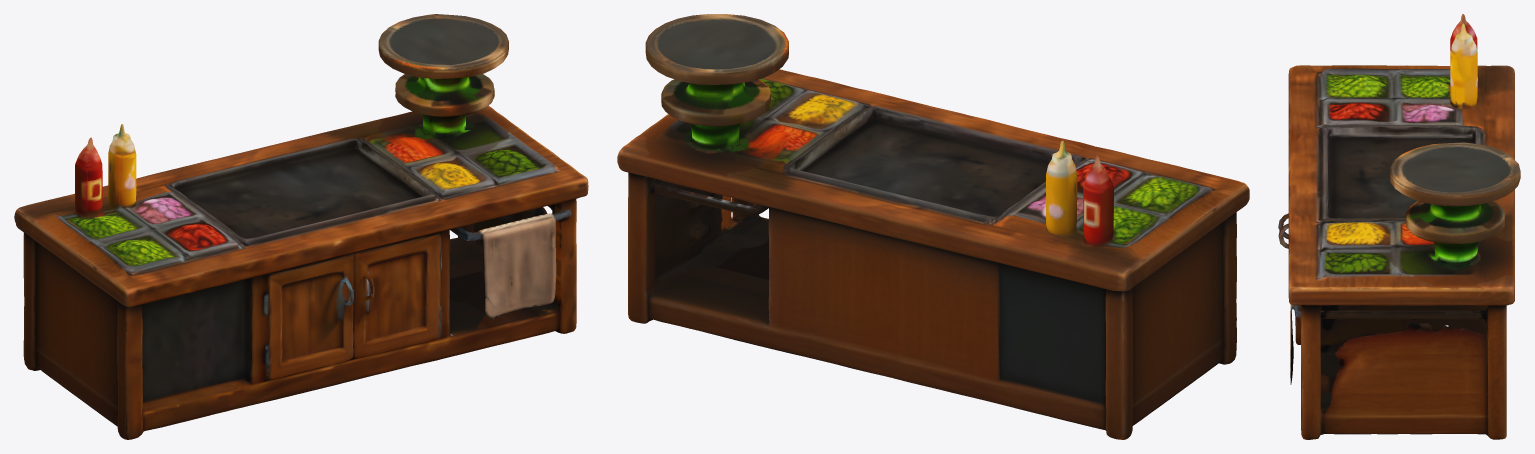
File: lod_basic_shaded.fbx
3 views of the same model, side by side, from view 1: azimuth 30°, elevation 25°; view 2: azimuth 150°, elevation 25°; view 3: azimuth 270°, elevation 25° (orthographic). The views are drawn at different scales.
Visible parts, largest first — view 1: model_LOD0; view 2: model_LOD0; view 3: model_LOD0.
Part boxes in pixels (box(x1,y1,x2,y2)): model_LOD0: box(14, 14, 588, 439); model_LOD0: box(617, 14, 1249, 439); model_LOD0: box(1278, 14, 1520, 439).
Size of what is drawn, in the model's own units: 190 by 97.1 by 87.05.
